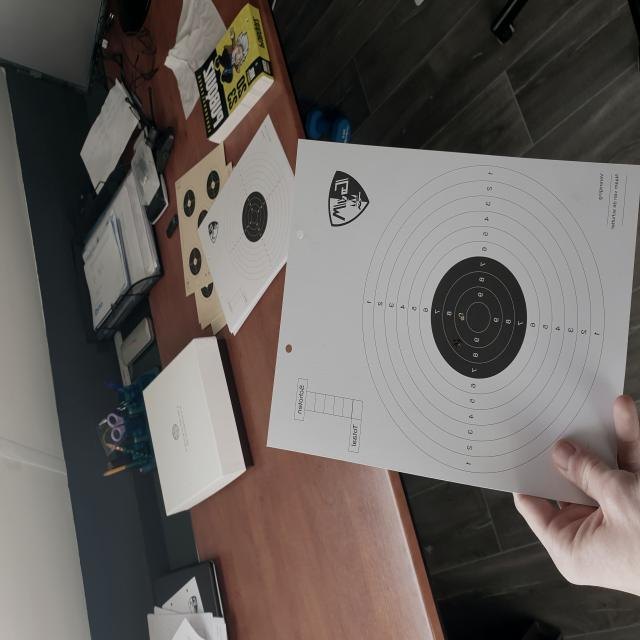8: (453, 338, 462, 349)
9: (459, 314, 465, 322)
Target: (362, 164, 606, 474)
black_contour: (431, 255, 525, 378)
